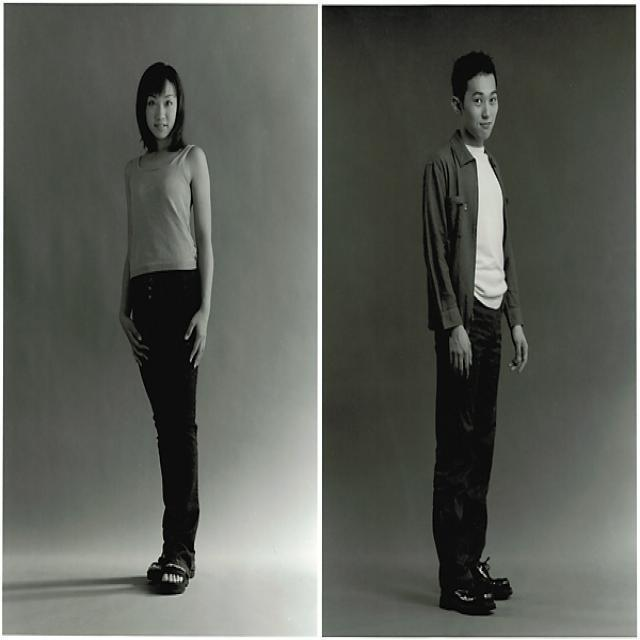direk: (421, 46, 532, 616), (118, 54, 222, 608)
